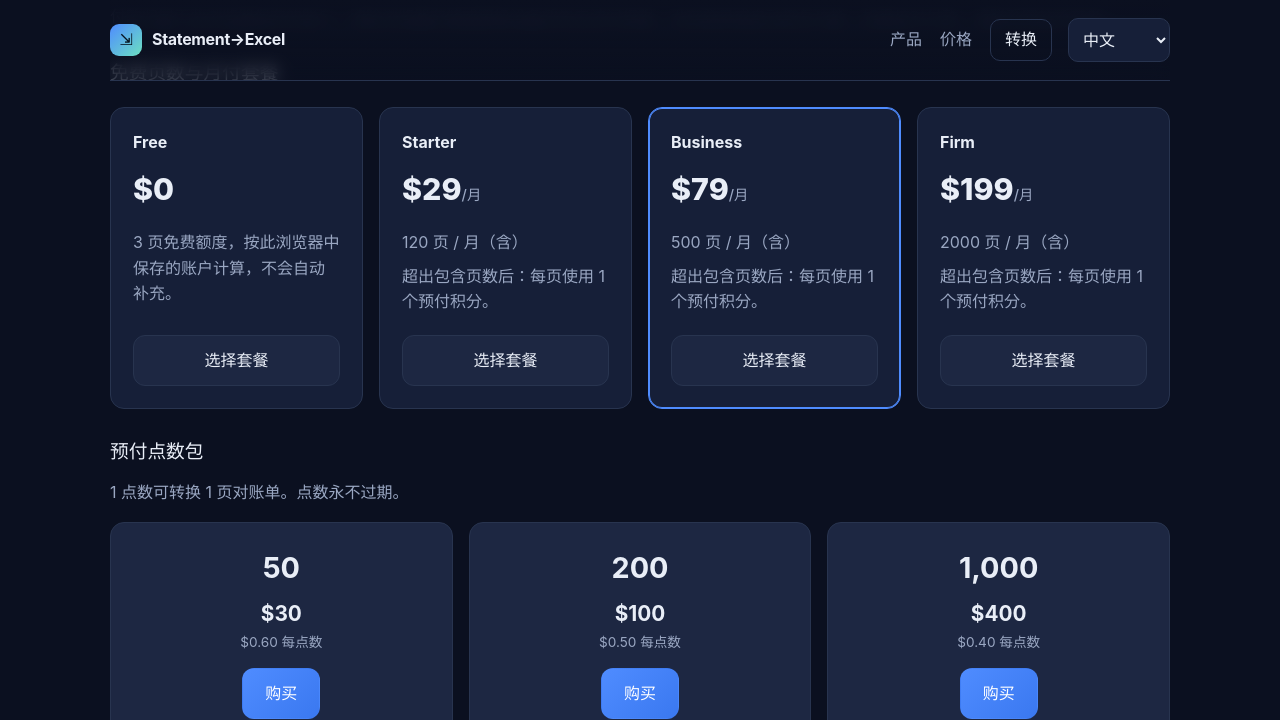
Test: server-authoritative checkout › shows only the localized checkout error in zh
(page scrolled)
Click the button "选择套餐" below "120" at [506, 361], box left=402, top=335, right=609, bottom=386
(page scrolled)
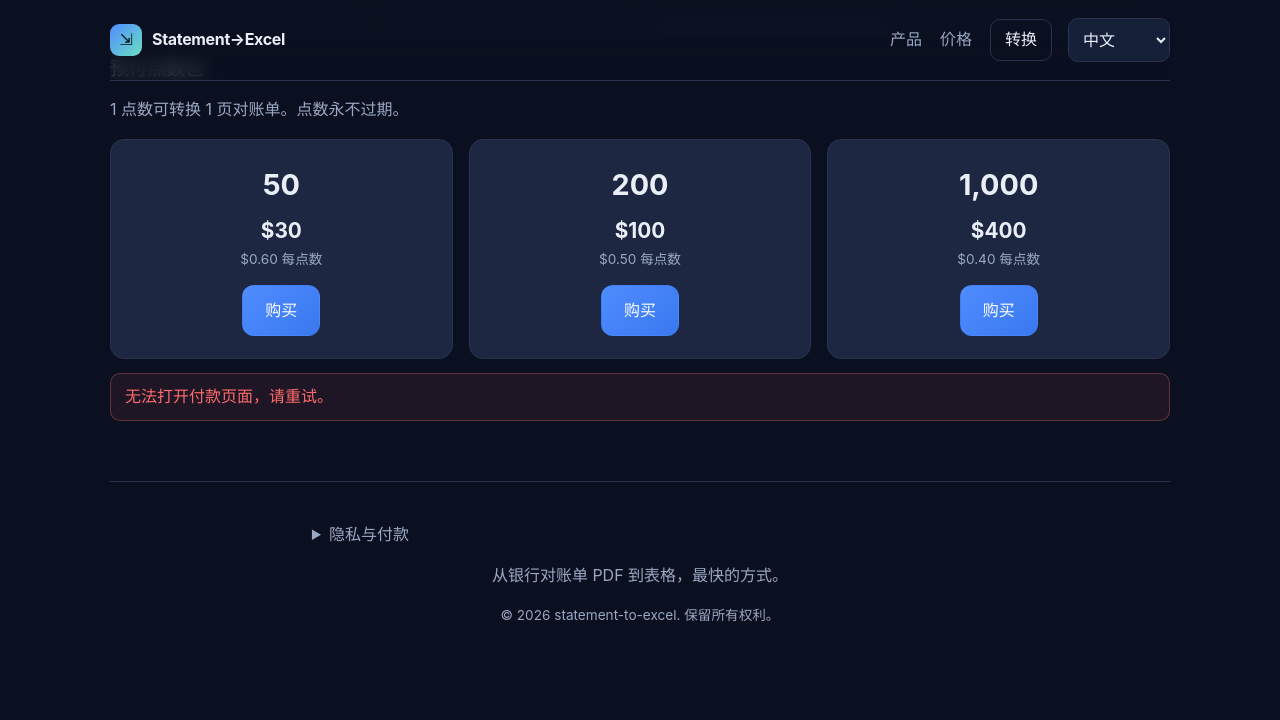
expect the message does not show "STRIPE_OMITTED": met, box left=110, top=373, right=1170, bottom=421
expect the message reads "无法打开付款页面，请重试。": met, box left=125, top=386, right=333, bottom=406
